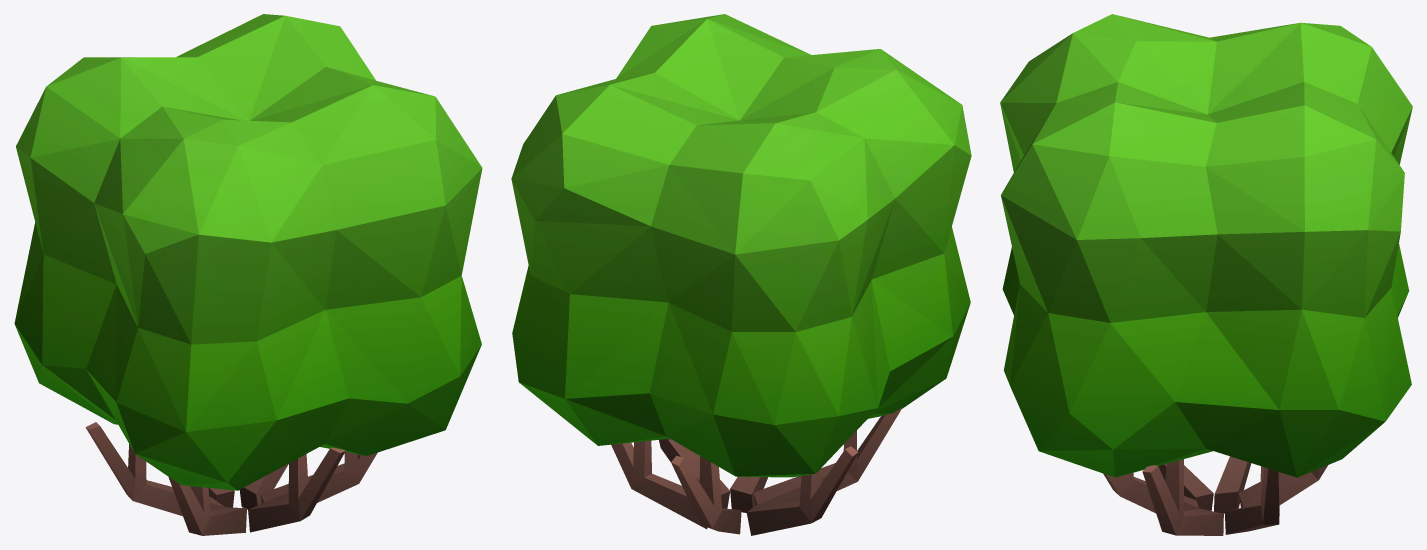
The model's file is bush-1.glb.
3 views of the same model, side by side, from view 1: azimuth 30°, elevation 25°; view 2: azimuth 150°, elevation 25°; view 3: azimuth 270°, elevation 25° (orthographic). The views are drawn at different scales.
Visible parts, largest first — view 1: bush1; view 2: bush1; view 3: bush1.
Boxes of the visible parts, left/top/right/bottom form: bush1: left=14, top=14, right=482, bottom=535; bush1: left=511, top=14, right=971, bottom=535; bush1: left=1000, top=14, right=1412, bottom=535.
Bounding box in the file's own units: 1.3 × 1.63 × 1.32.
1 material, 1 textured.
